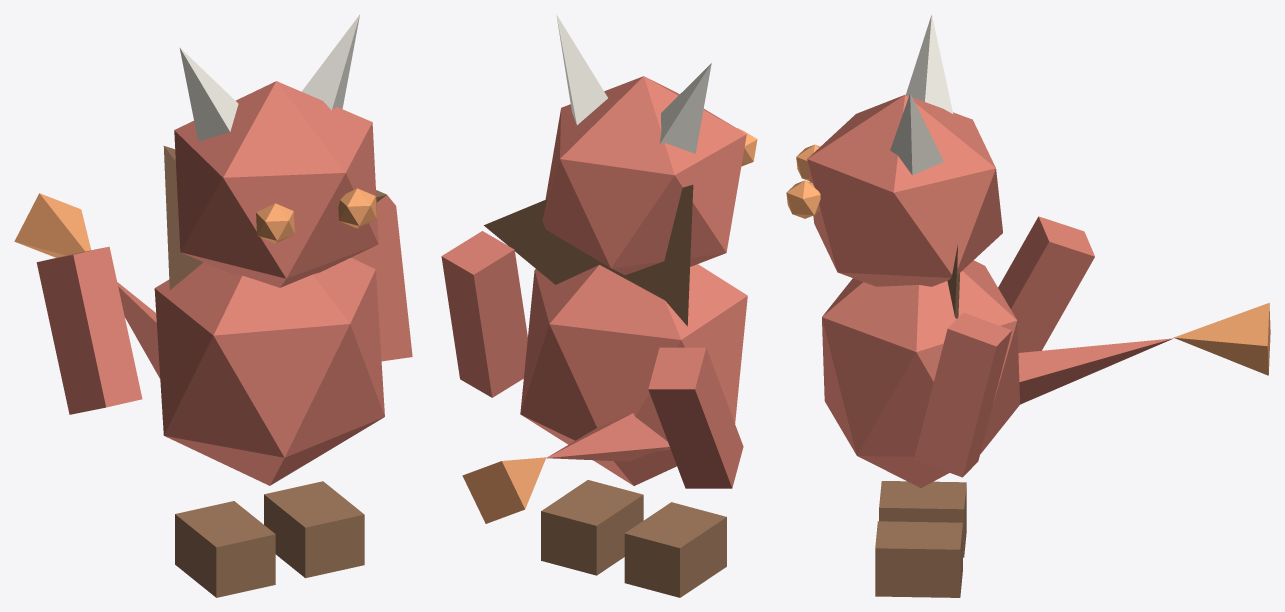
The model's file is npcpose_imp_idle_10.glb.
3 renders of one model, left to right at view 1: azimuth 30°, elevation 25°; view 2: azimuth 150°, elevation 25°; view 3: azimuth 270°, elevation 25°, orthographic. The views are drawn at different scales.
Parts seen in each view (by area): view 1: npcpose; view 2: npcpose; view 3: npcpose.
Boxes of the visible parts, box(x1,y1,x2,y2) form: npcpose: box(14, 14, 412, 597); npcpose: box(441, 14, 757, 597); npcpose: box(786, 14, 1270, 597).
Size of the model in its own units: 0.6345 by 1.06 by 0.9094.
